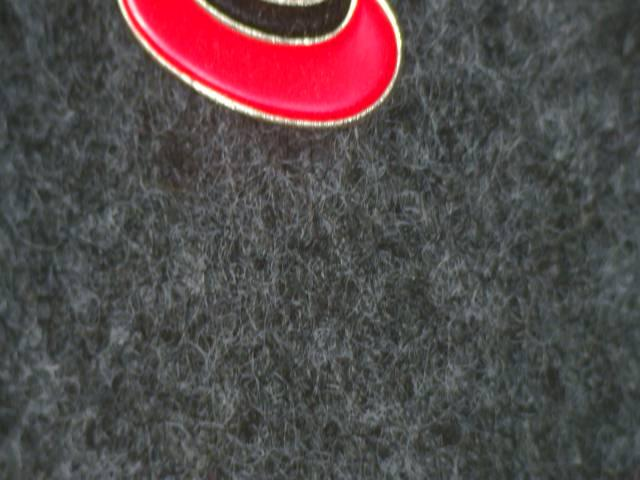Red-Hat: (90, 0, 431, 184)
